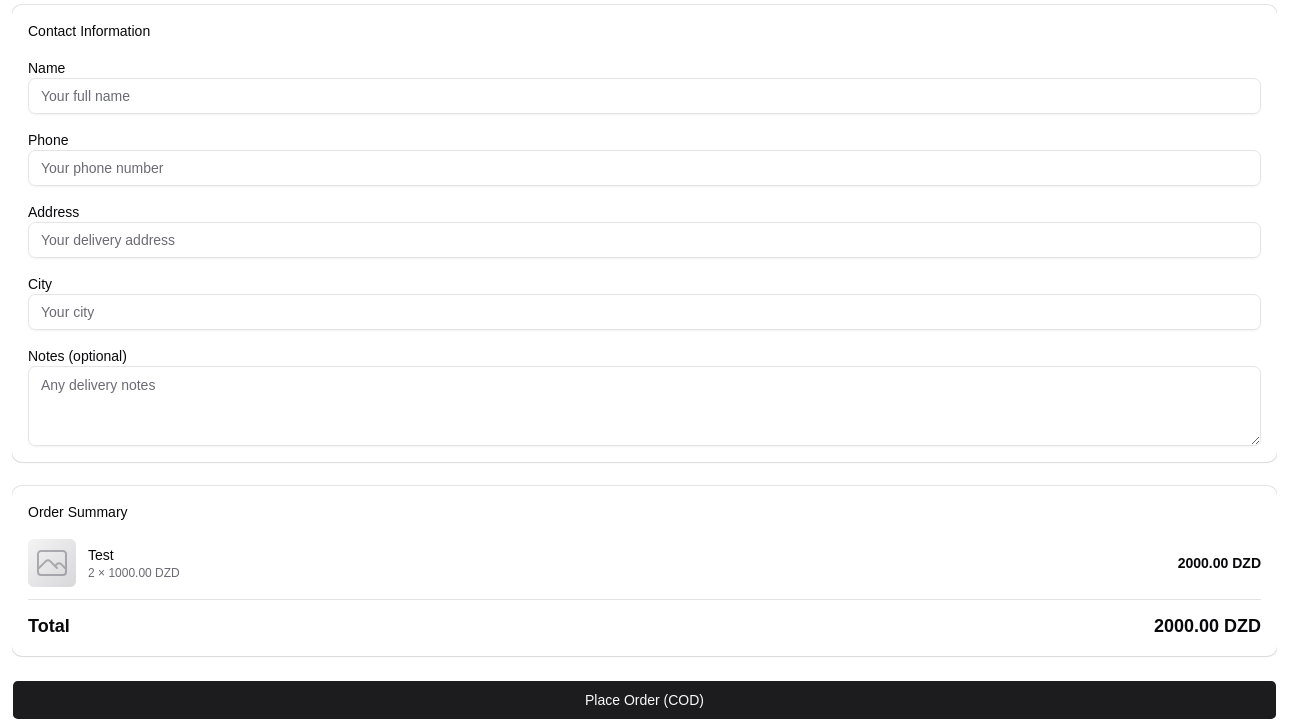
Test case: Checkout › validates required fields
The image size is (1292, 720).
(page scrolled)
Click the button "Place Order (COD)": (644,700) [12,680,1277,719]
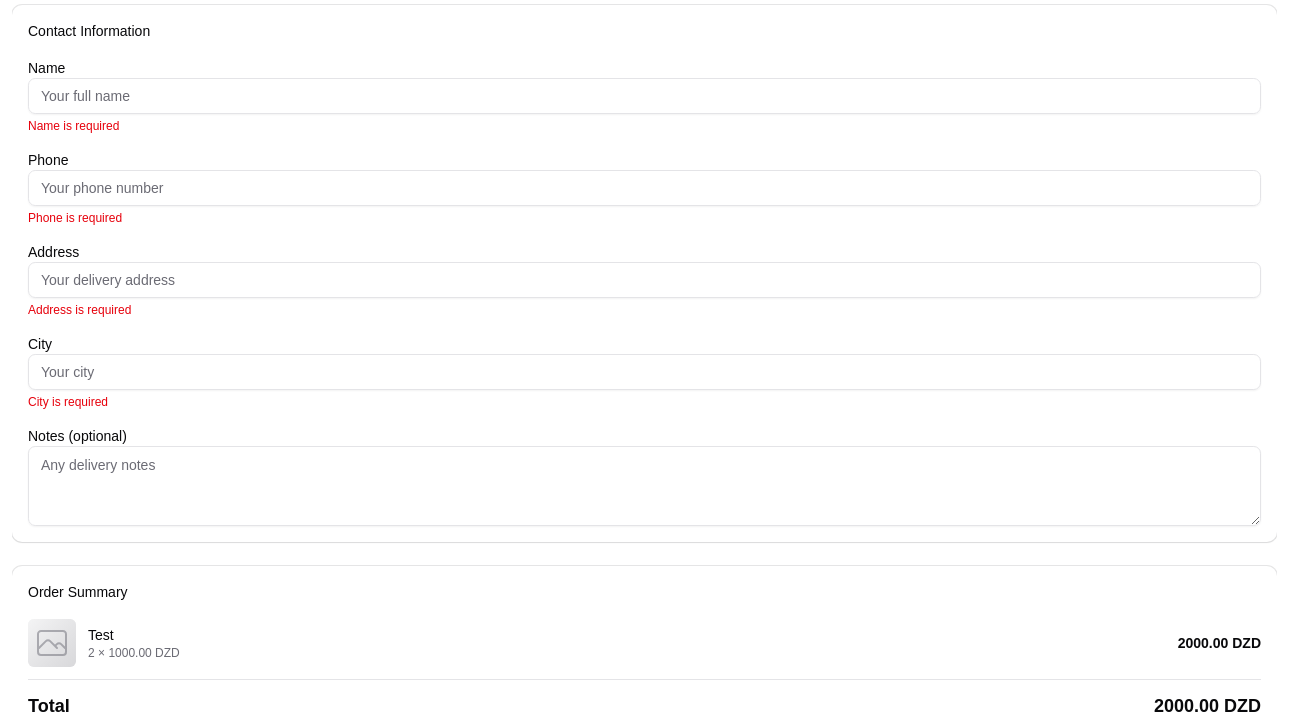
expect the text "Name is required" is shown: met, box [28,119,119,133]
expect the text "Phone is required" is shown: met, box [28,211,122,225]
expect the text "Address is required" is shown: met, box [28,303,131,317]
